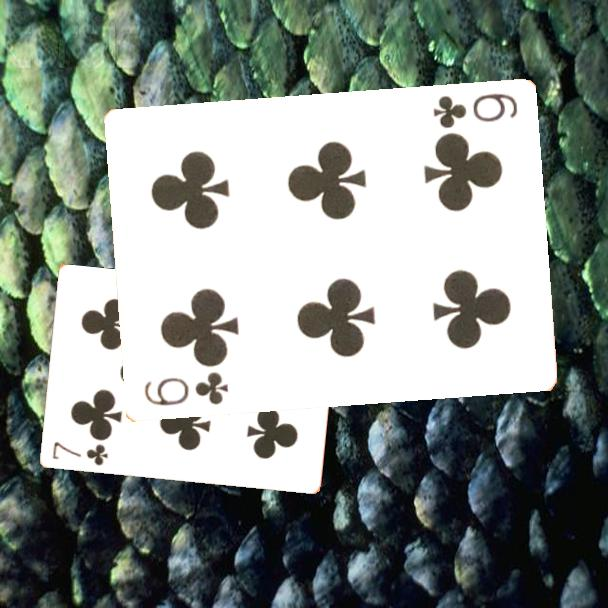c06: (429, 90, 520, 131), (140, 369, 231, 409)
c07: (49, 438, 111, 469)
